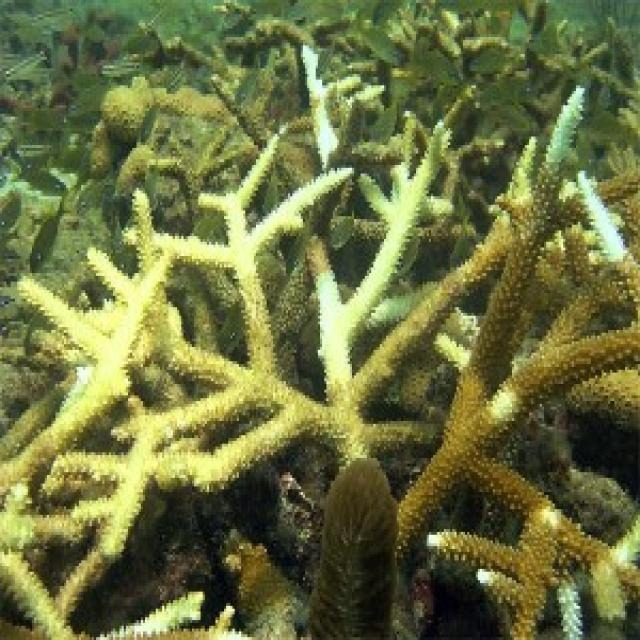Bleached: (42, 371, 295, 556), (317, 120, 449, 456), (18, 192, 184, 408), (157, 146, 353, 268), (292, 39, 345, 171), (541, 76, 587, 177), (579, 172, 626, 260)
